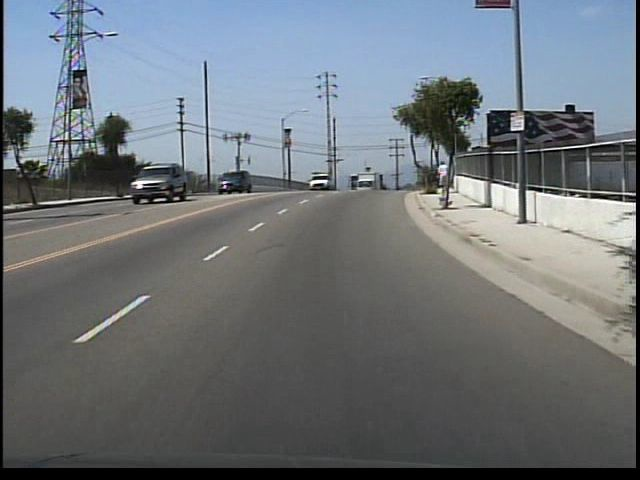person: (438, 158, 449, 194)
